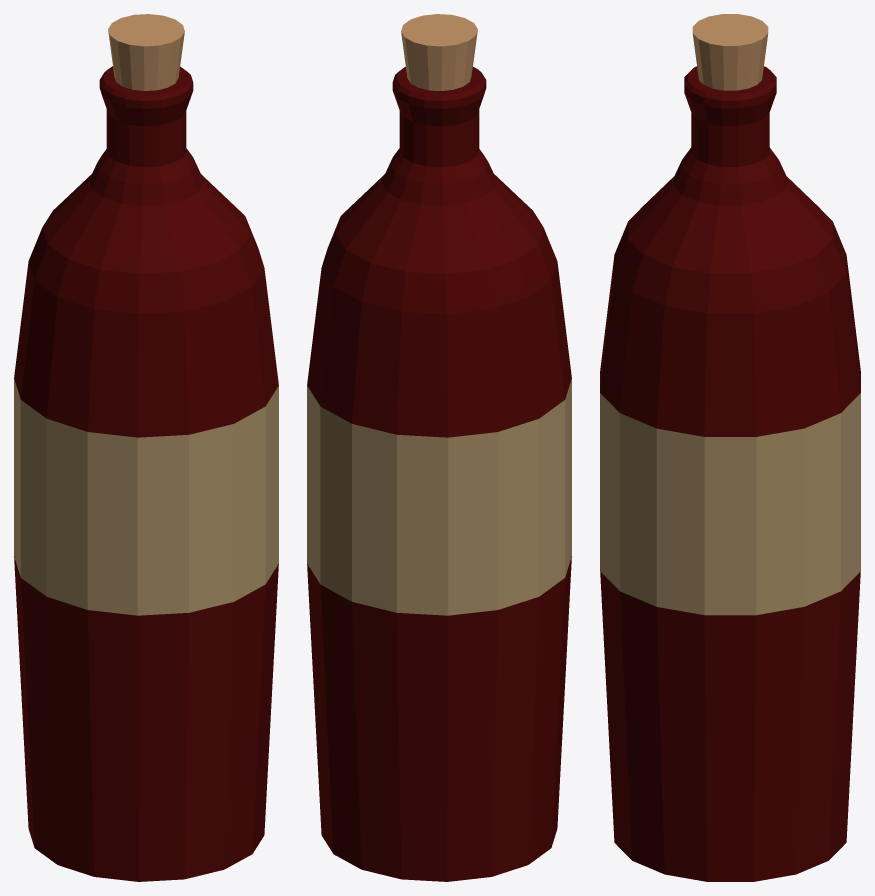
The model's file is WineBottle2_Red.fbx.
3 views of the same model, side by side, from view 1: azimuth 30°, elevation 25°; view 2: azimuth 150°, elevation 25°; view 3: azimuth 270°, elevation 25° (orthographic).
Visible parts, largest first — view 1: WineBottle V2 Green.003; view 2: WineBottle V2 Green.003; view 3: WineBottle V2 Green.003.
Boxes of the visible parts, x1,y1,x2,y2 form: WineBottle V2 Green.003: [14, 14, 278, 881]; WineBottle V2 Green.003: [307, 14, 571, 881]; WineBottle V2 Green.003: [600, 14, 860, 881].
Bounding box in the file's own units: 7.36 × 25 × 7.36.
